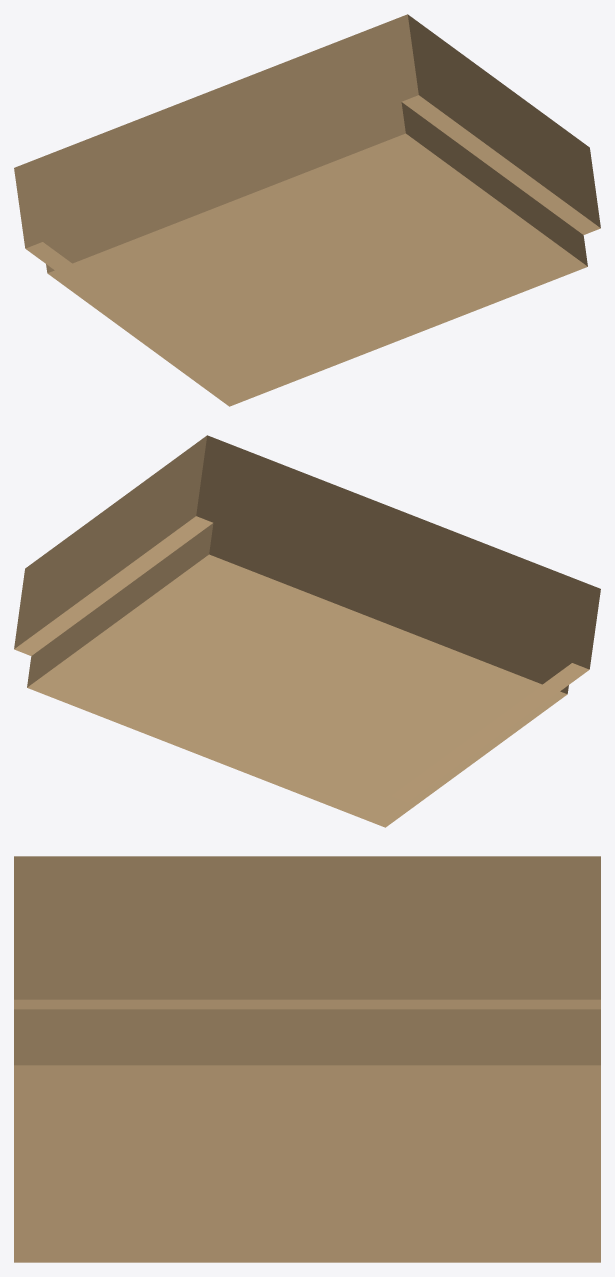
3 views of the same model, one above another, from view 1: azimuth 30°, elevation 25°; view 2: azimuth 150°, elevation 25°; view 3: azimuth 270°, elevation 25° (orthographic). The views are drawn at different scales.
Visible parts, largest first — view 1: 0_3_2_3_1_2_2_3; view 2: 0_3_2_3_1_2_2_3; view 3: 0_3_2_3_1_2_2_3.
Boxes of the visible parts, box(x1,y1,x2,y2) form: 0_3_2_3_1_2_2_3: box(14, 14, 600, 406); 0_3_2_3_1_2_2_3: box(14, 435, 600, 827); 0_3_2_3_1_2_2_3: box(14, 856, 600, 1262).
Size of the model in its own units: 34.64 by 14 by 27.
